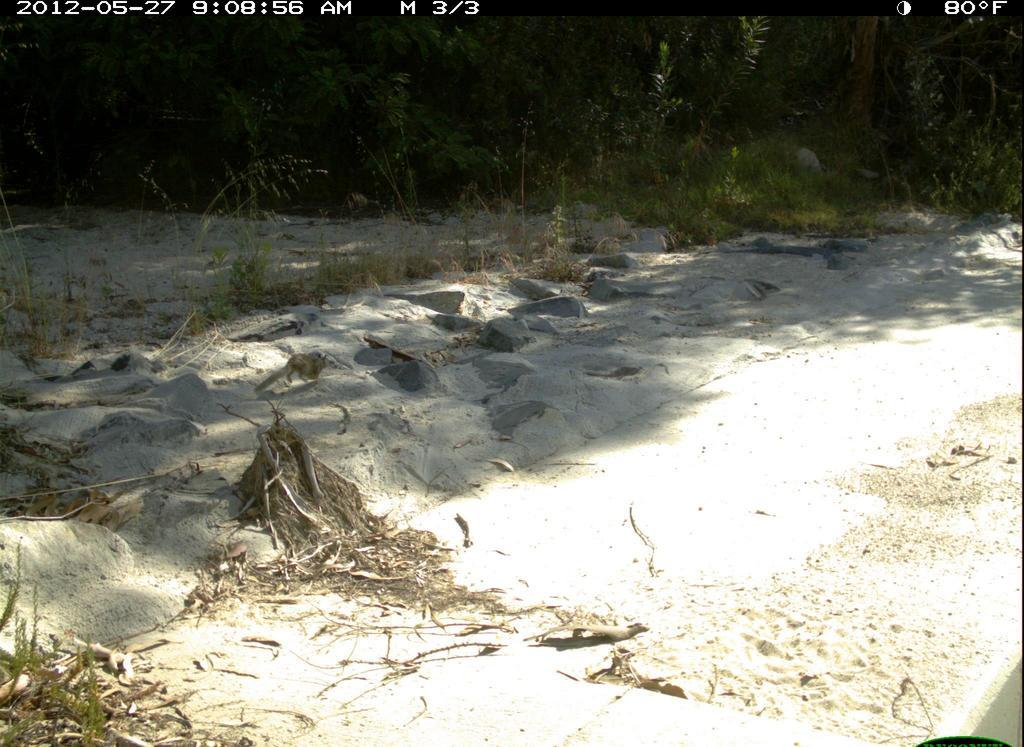squirrel: (246, 345, 332, 402)
